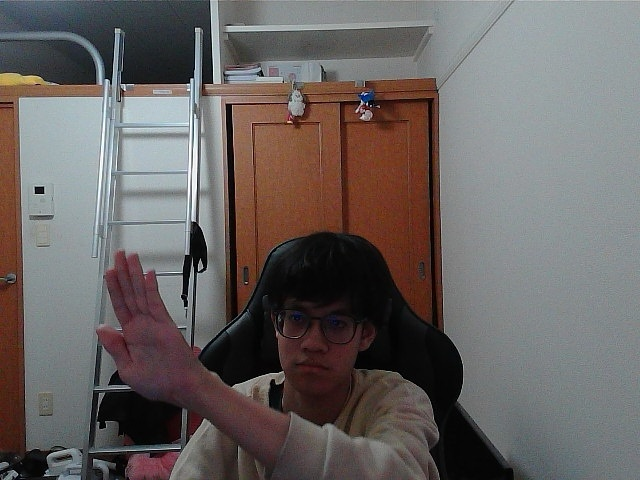open_palm: (105, 256, 169, 387)
